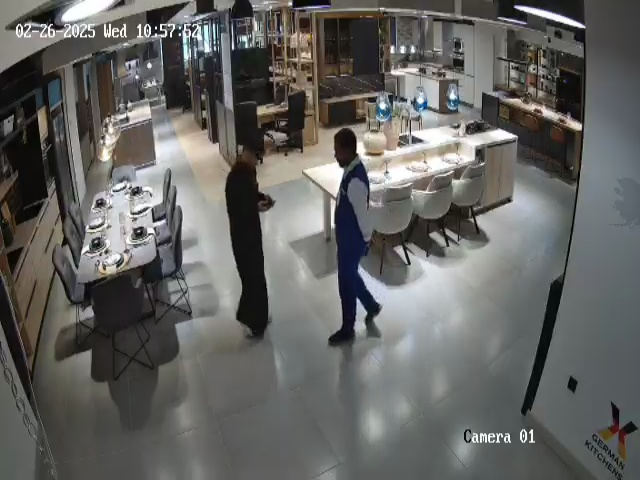employee: (327, 128, 383, 345)
male: (225, 140, 275, 339)
